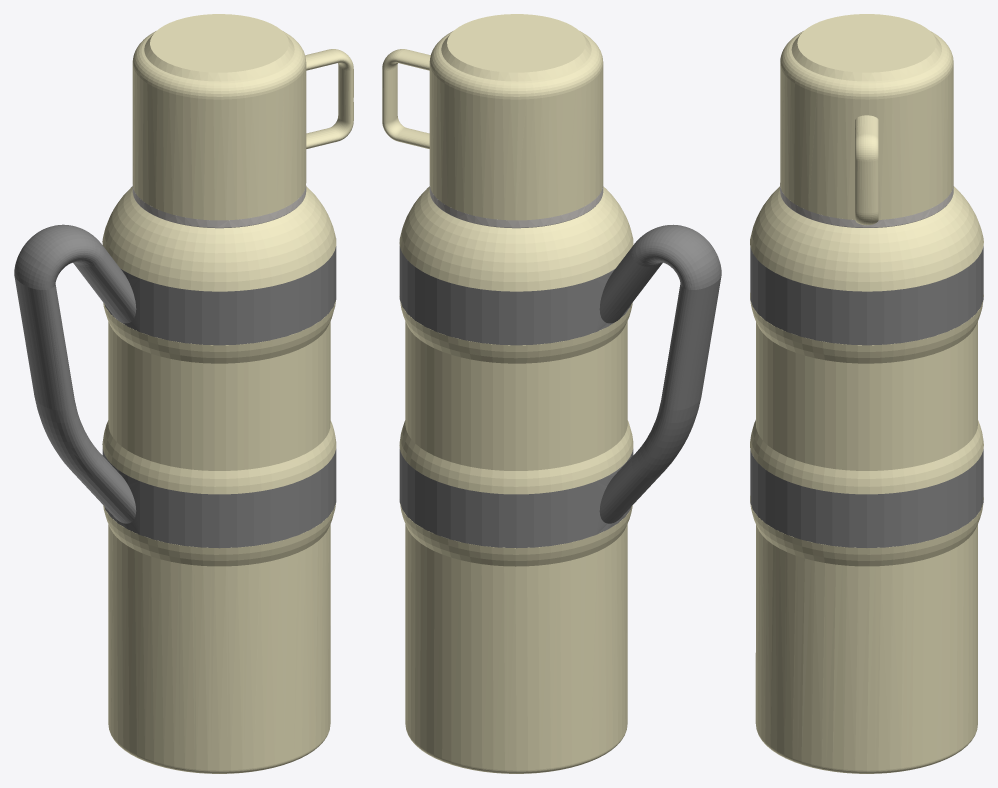
Rendered from Flask Assembly.fbx.
3 renders of one model, left to right at view 1: azimuth 30°, elevation 25°; view 2: azimuth 150°, elevation 25°; view 3: azimuth 270°, elevation 25°, orthographic.
Visible parts, largest first — view 1: Shape_IndexedFaceSet.001, Shape_IndexedFaceSet.002, Shape_IndexedFaceSet.004, Shape_IndexedFaceSet.005, Shape_IndexedFaceSet; view 2: Shape_IndexedFaceSet.001, Shape_IndexedFaceSet.002, Shape_IndexedFaceSet.004, Shape_IndexedFaceSet.005, Shape_IndexedFaceSet; view 3: Shape_IndexedFaceSet.001, Shape_IndexedFaceSet.004, Shape_IndexedFaceSet.002, Shape_IndexedFaceSet.005, Shape_IndexedFaceSet.
Part boxes in pixels (x1,y1,x2,y2): Shape_IndexedFaceSet.001: [102, 186, 336, 773]; Shape_IndexedFaceSet.002: [14, 224, 336, 548]; Shape_IndexedFaceSet.004: [132, 14, 306, 220]; Shape_IndexedFaceSet.005: [305, 49, 353, 148]; Shape_IndexedFaceSet: [132, 185, 306, 228]; Shape_IndexedFaceSet.001: [399, 186, 633, 773]; Shape_IndexedFaceSet.002: [399, 224, 721, 548]; Shape_IndexedFaceSet.004: [429, 14, 603, 220]; Shape_IndexedFaceSet.005: [382, 49, 430, 148]; Shape_IndexedFaceSet: [429, 185, 603, 228]; Shape_IndexedFaceSet.001: [750, 186, 983, 773]; Shape_IndexedFaceSet.004: [780, 14, 953, 219]; Shape_IndexedFaceSet.002: [750, 246, 983, 547]; Shape_IndexedFaceSet.005: [855, 115, 878, 225]; Shape_IndexedFaceSet: [780, 182, 953, 227].
Bounding box in the file's own units: 12.89 × 25.53 × 7.89.
